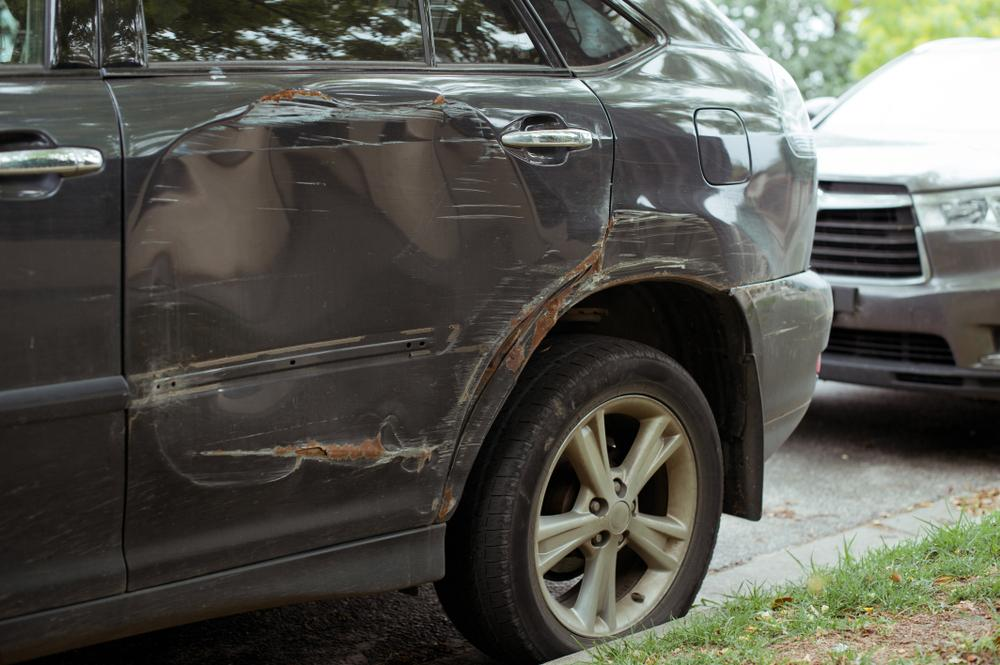dent: (126, 81, 586, 485)
scratch: (606, 208, 736, 286)
